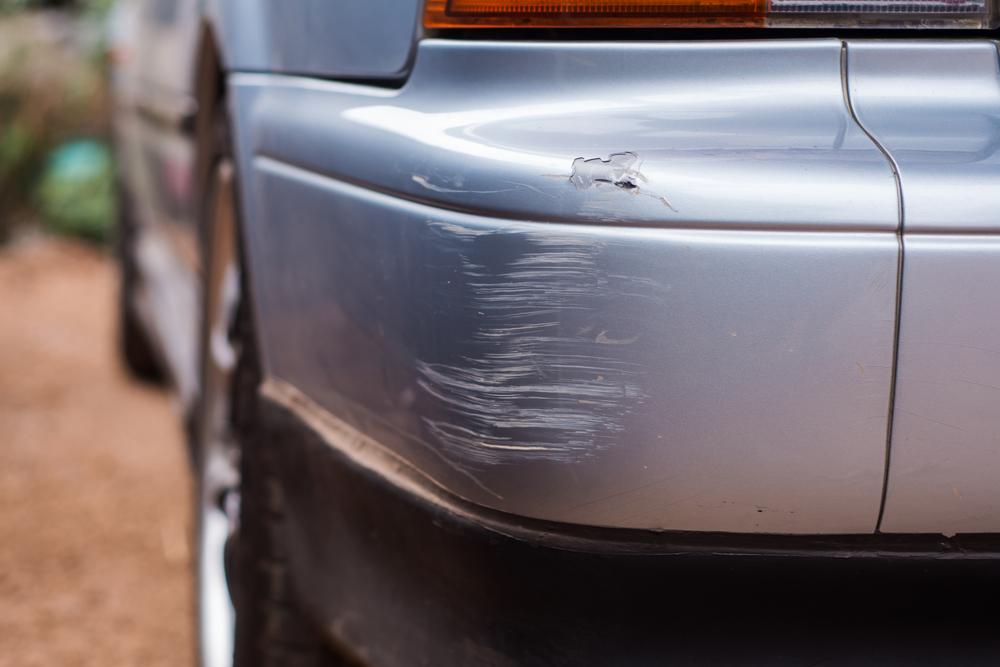scratch: (399, 209, 672, 468), (568, 144, 683, 218)
